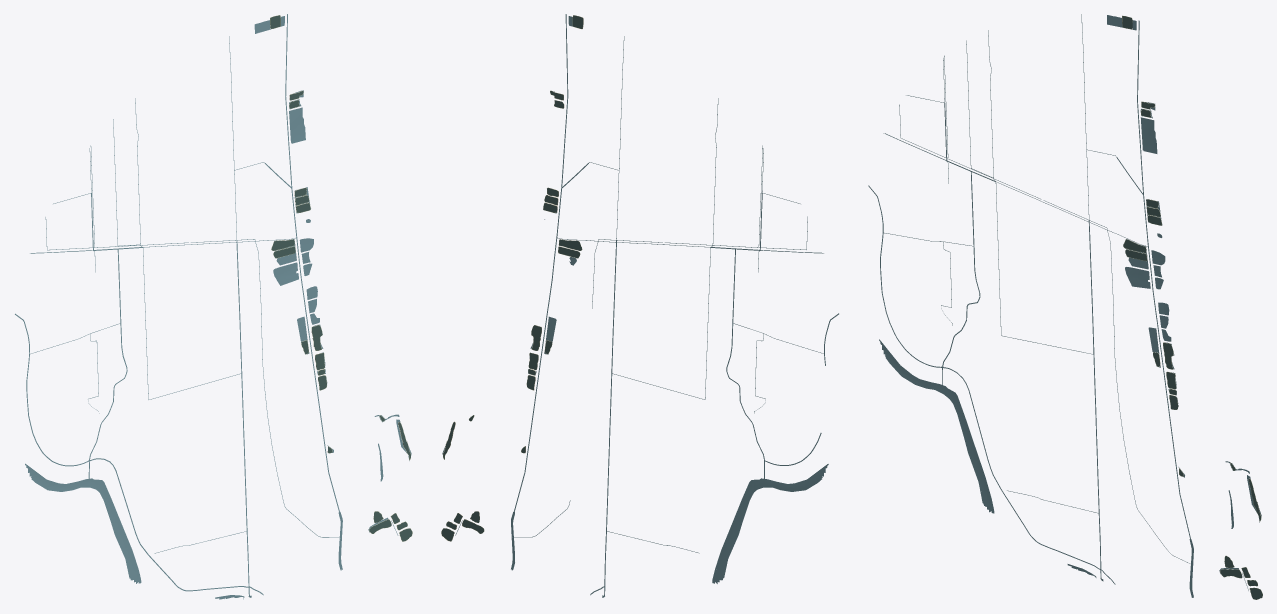
File: context-near-water.glb
3 renders of one model, left to right at view 1: azimuth 30°, elevation 25°; view 2: azimuth 150°, elevation 25°; view 3: azimuth 330°, elevation 25°, orthographic.
Visible parts, largest first — view 1: water-near--1--1, water-near--1-0, water-near-0-0, water-near-0--1, fishponds-water-0--1; view 2: water-near--1--1, water-near--1-0, water-near-0--1, fishponds-water-0--1; view 3: water-near--1--1, water-near--1-0, water-near-0-0, water-near-0--1, fishponds-water-0--1.
Part boxes in pixels (<box>): water-near--1--1: <box>25,309,283,599</box>; water-near--1-0: <box>15,16,283,366</box>; water-near-0-0: <box>282,14,317,297</box>; water-near-0--1: <box>283,294,411,570</box>; fishponds-water-0--1: <box>301,325,410,459</box>; water-near--1--1: <box>590,314,828,597</box>; water-near--1-0: <box>569,16,838,365</box>; water-near-0--1: <box>442,297,570,570</box>; fishponds-water-0--1: <box>443,325,551,459</box>; water-near--1--1: <box>879,244,1134,584</box>; water-near--1-0: <box>868,14,1135,299</box>; water-near-0-0: <box>1134,20,1169,312</box>; water-near-0--1: <box>1135,309,1261,597</box>; fishponds-water-0--1: <box>1153,343,1260,520</box>.
Size of the model in its own units: 2185 by 3022 by 3.43.
